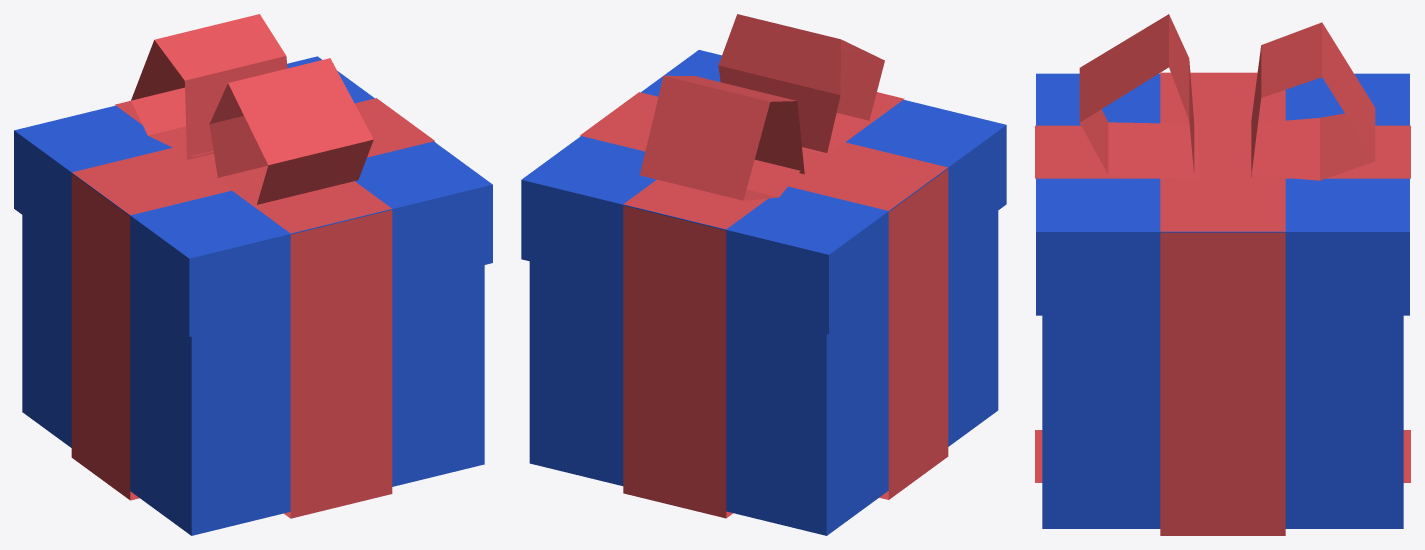
Rendered from gift box.01.fbx.
The picture shows the model from 3 angles, left to right: view 1: azimuth 30°, elevation 25°; view 2: azimuth 150°, elevation 25°; view 3: azimuth 270°, elevation 25°; orthographic projection. The views are drawn at different scales.
Parts seen in each view (by area): view 1: gift box, gift box ribbon; view 2: gift box, gift box ribbon; view 3: gift box, gift box ribbon.
Boxes of the visible parts, box(x1,y1,x2,y2) form: gift box: box(14, 56, 492, 535); gift box ribbon: box(71, 14, 434, 518); gift box: box(521, 50, 1006, 535); gift box ribbon: box(580, 14, 948, 518); gift box: box(1036, 73, 1409, 528); gift box ribbon: box(1035, 14, 1410, 535).
Size of the model in its own units: 208 by 254 by 208.
